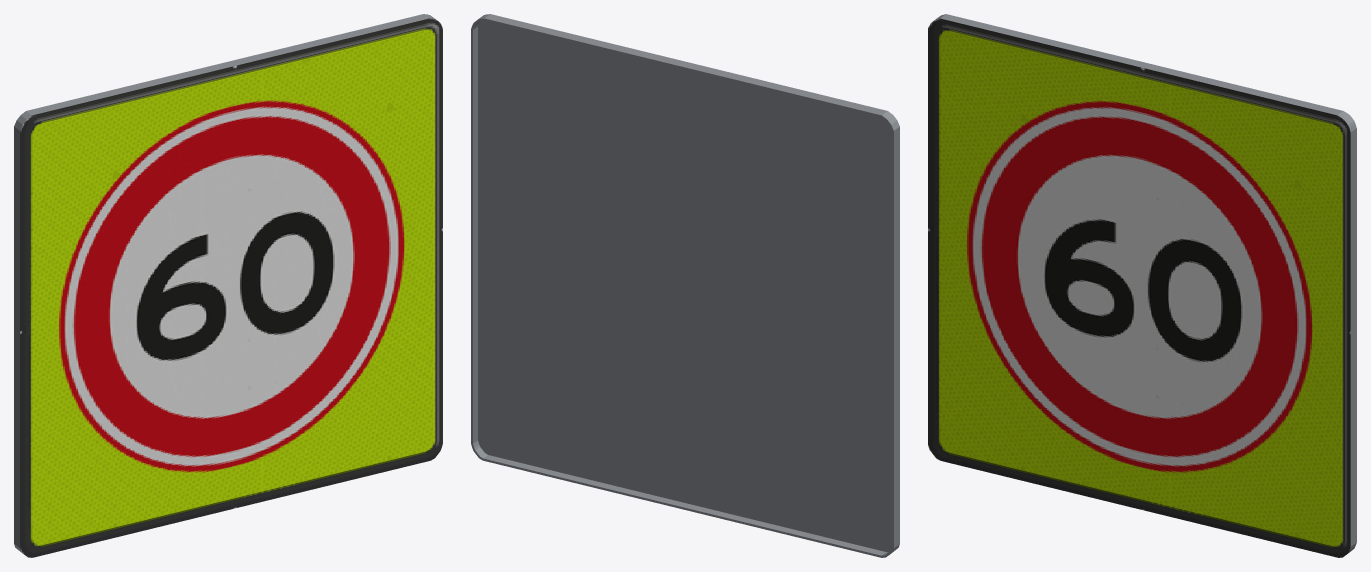
3 renders of one model, left to right at view 1: azimuth 30°, elevation 25°; view 2: azimuth 150°, elevation 25°; view 3: azimuth 330°, elevation 25°, orthographic.
Visible parts, largest first — view 1: cat_ef745c340d06caf3; view 2: cat_ef745c340d06caf3; view 3: cat_ef745c340d06caf3.
Boxes of the visible parts, box(x1,y1,x2,y2) form: cat_ef745c340d06caf3: box(14, 14, 442, 557); cat_ef745c340d06caf3: box(471, 14, 899, 557); cat_ef745c340d06caf3: box(928, 14, 1356, 557).
Bounding box in the file's own units: 0.6 × 0.015 × 0.6.
Materials: 2 (1 with a texture image).
